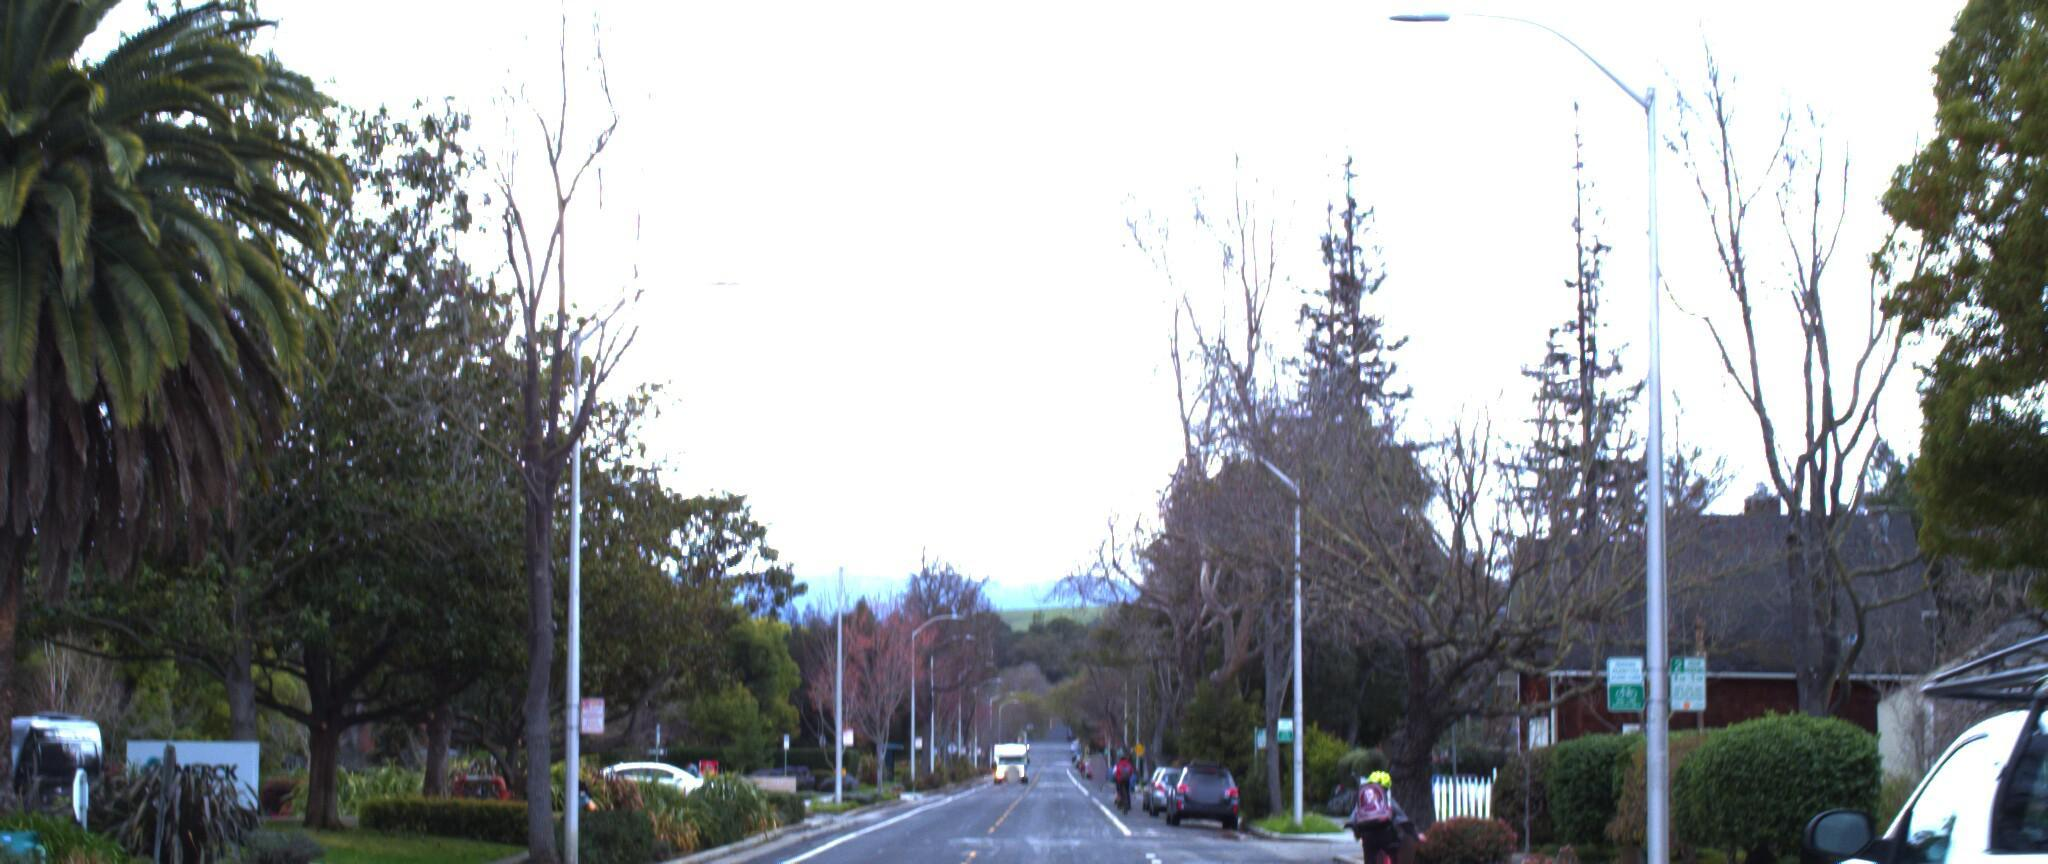bicycle: (1320, 764, 1439, 864)
car: (1703, 596, 2048, 864), (1157, 771, 1246, 841)
